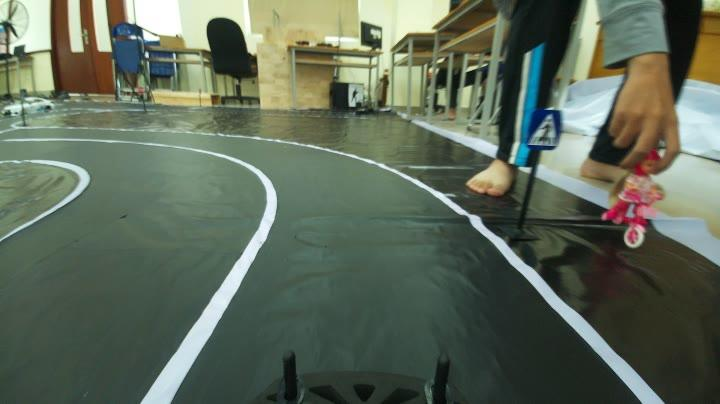crosswalk: (518, 105, 563, 155)
